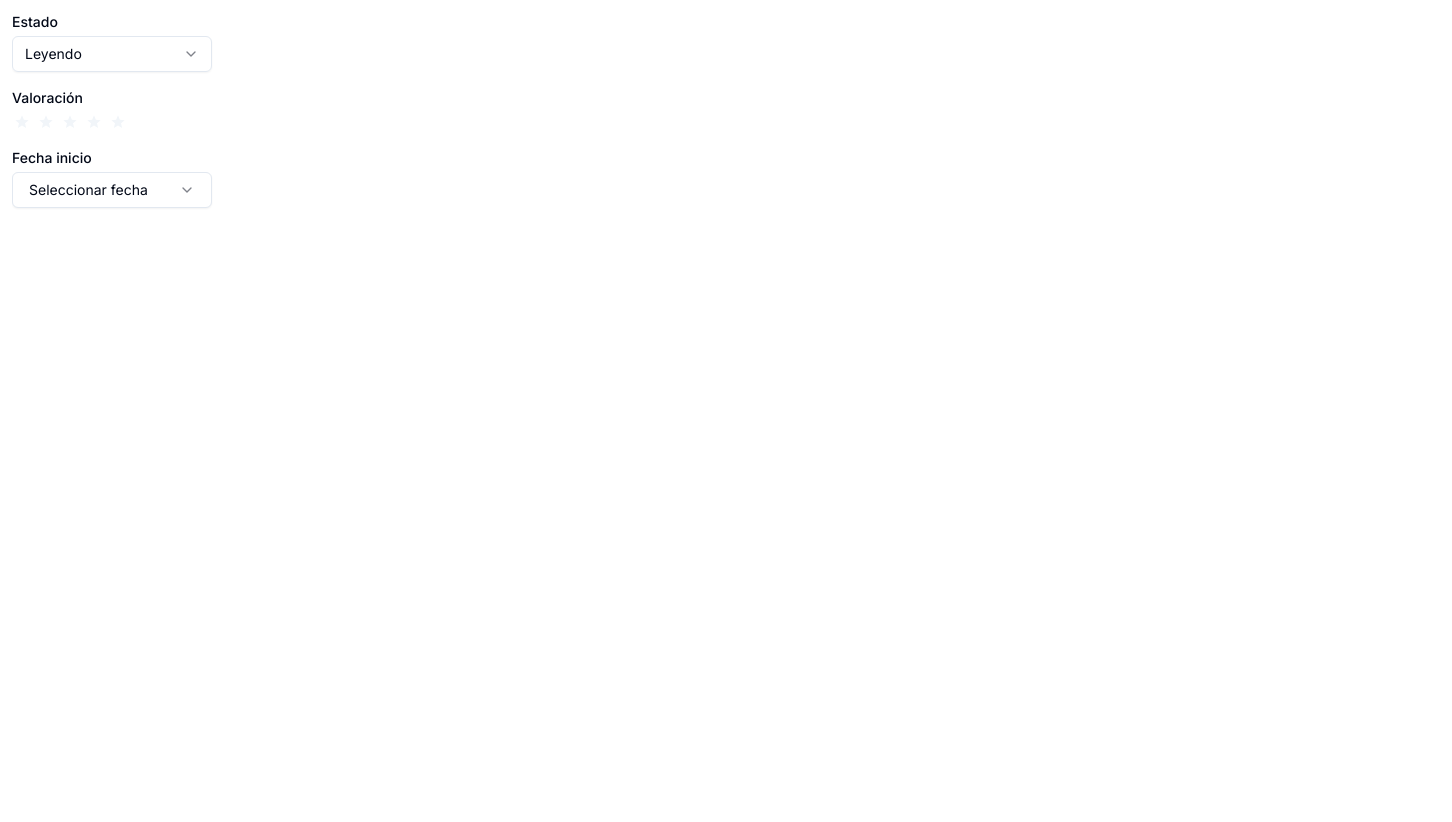
Test: ReadingControls › reverts local state on mutation error
This screenshot has width=1452, height=822.
Note: Try to change status - find combobox by role
Click the dropdown at (112, 54), box [12, 36, 212, 72]
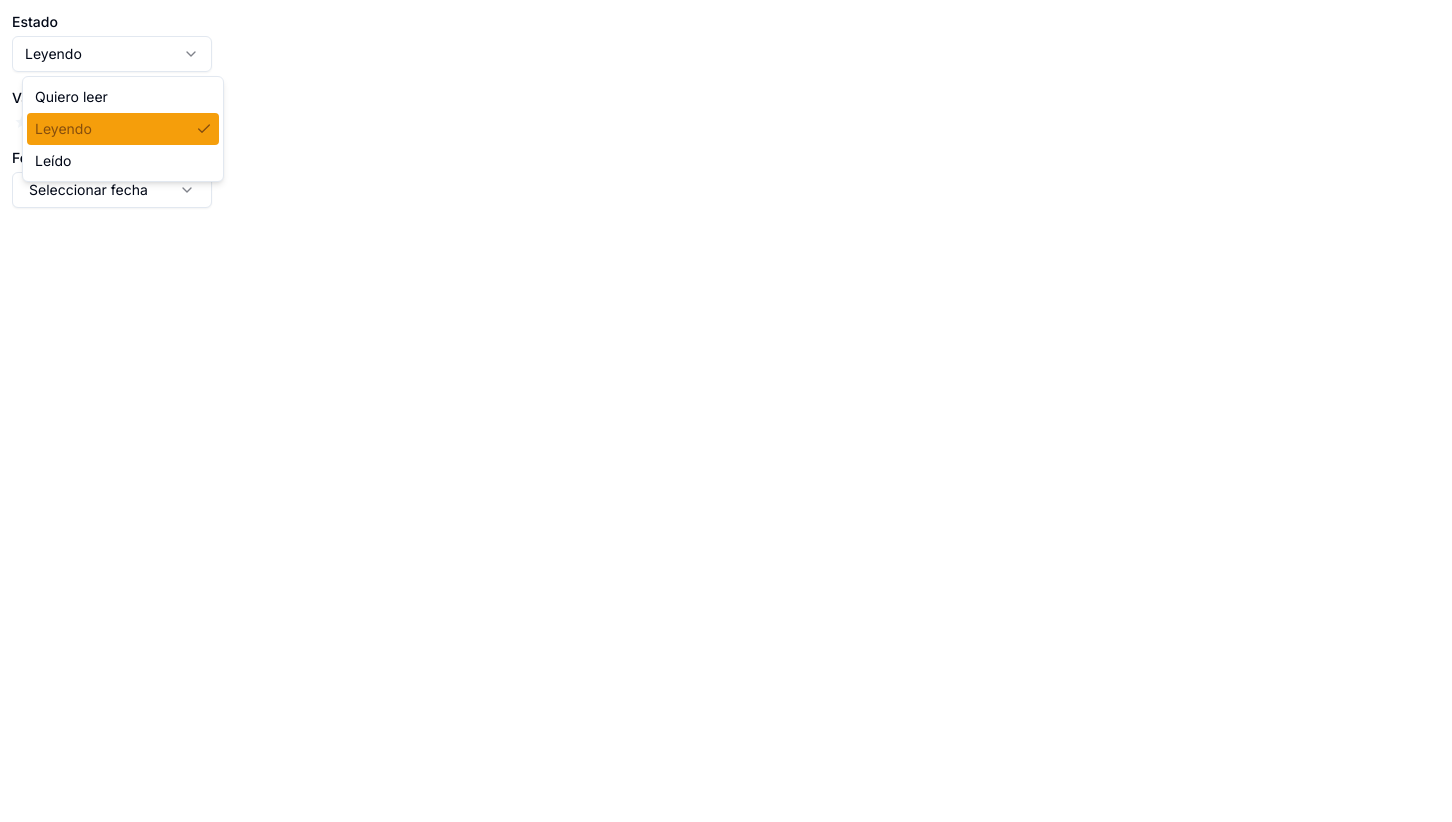
Click the option "Quiero leer" at (71, 96), box [35, 88, 108, 105]
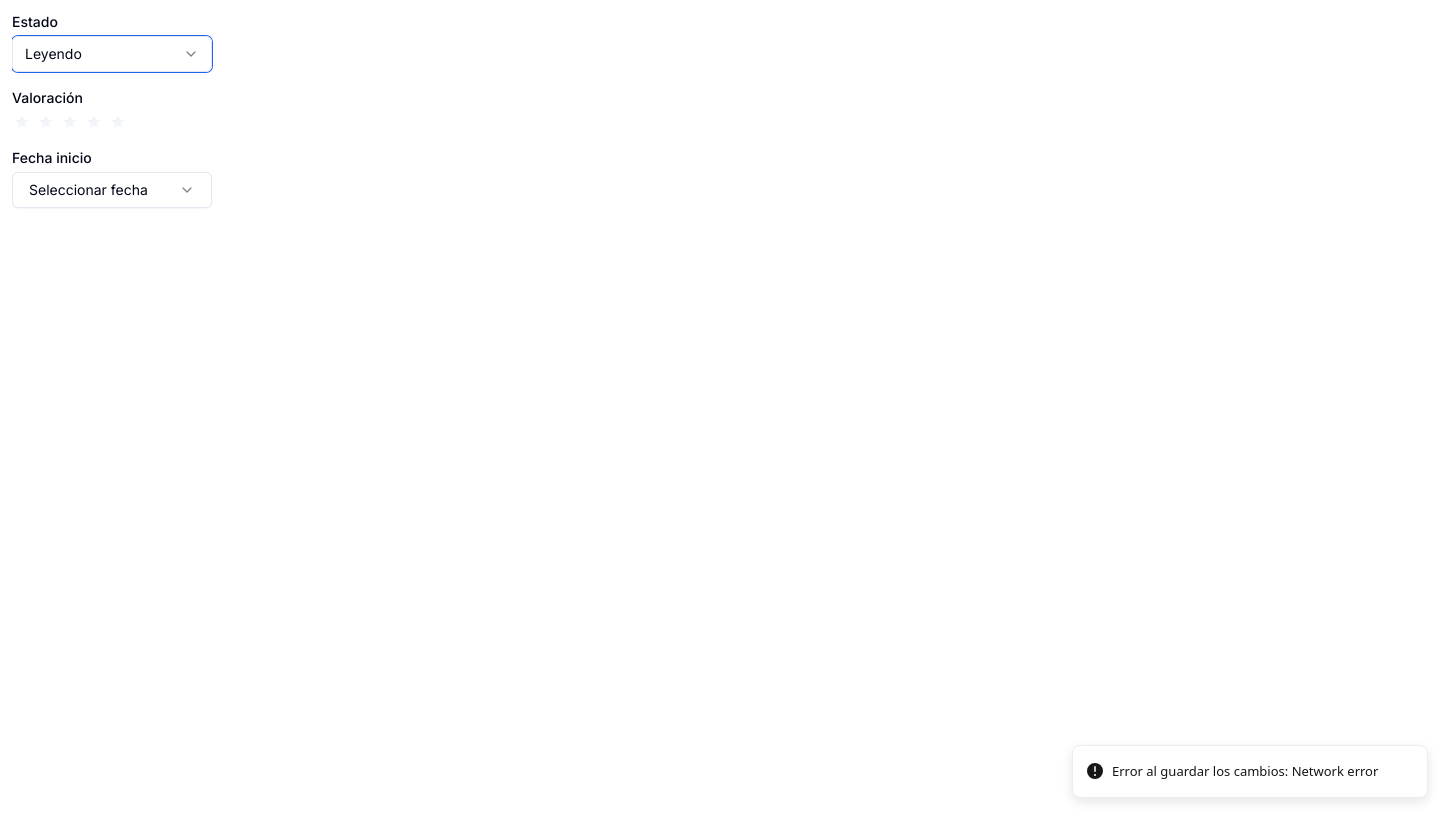
Now the text "Error al guardar los cambios: Network error" is shown, box [1112, 762, 1378, 781]
